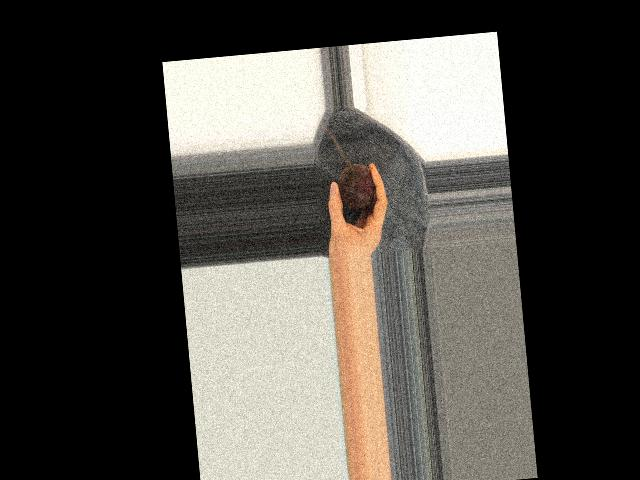beet: (336, 162, 376, 211)
